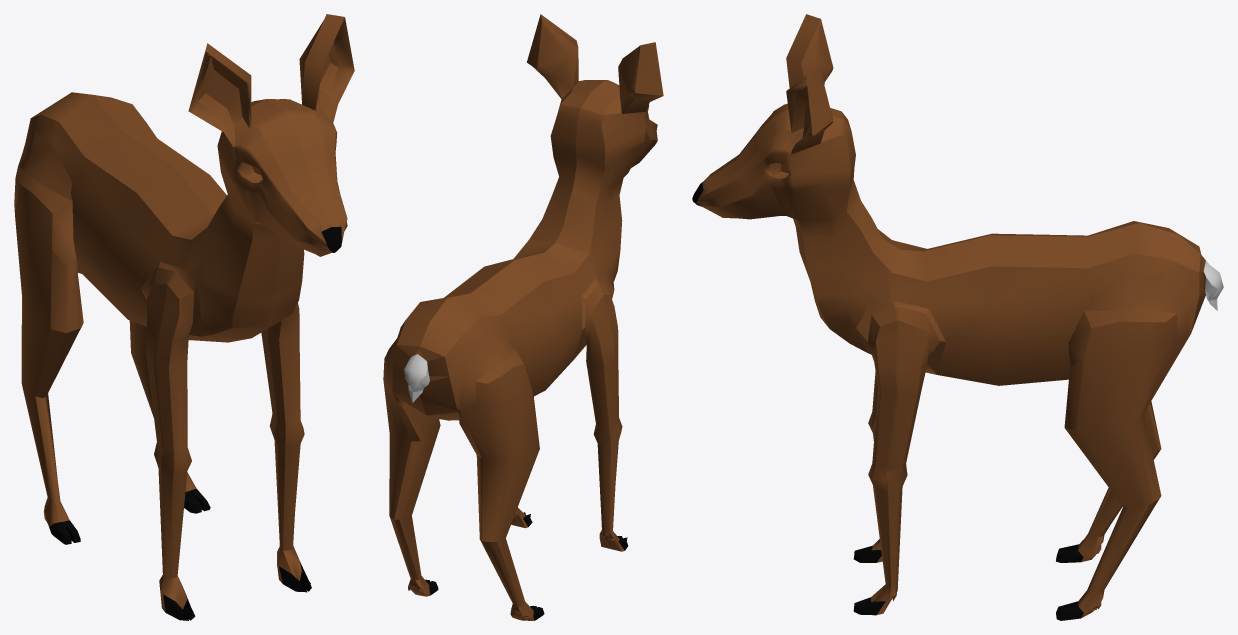
File: Test_Deer.dae
The picture shows the model from 3 angles, left to right: view 1: azimuth 30°, elevation 25°; view 2: azimuth 150°, elevation 25°; view 3: azimuth 270°, elevation 25°; orthographic projection. The views are drawn at different scales.
Visible parts, largest first — view 1: polySurface1; view 2: polySurface1; view 3: polySurface1.
Part boxes in pixels (left/top/right/bottom): polySurface1: left=14, top=14, right=354, bottom=620; polySurface1: left=383, top=14, right=663, bottom=620; polySurface1: left=692, top=14, right=1223, bottom=620.
Size of the model in its own units: 3.93 by 13.41 by 11.91.
